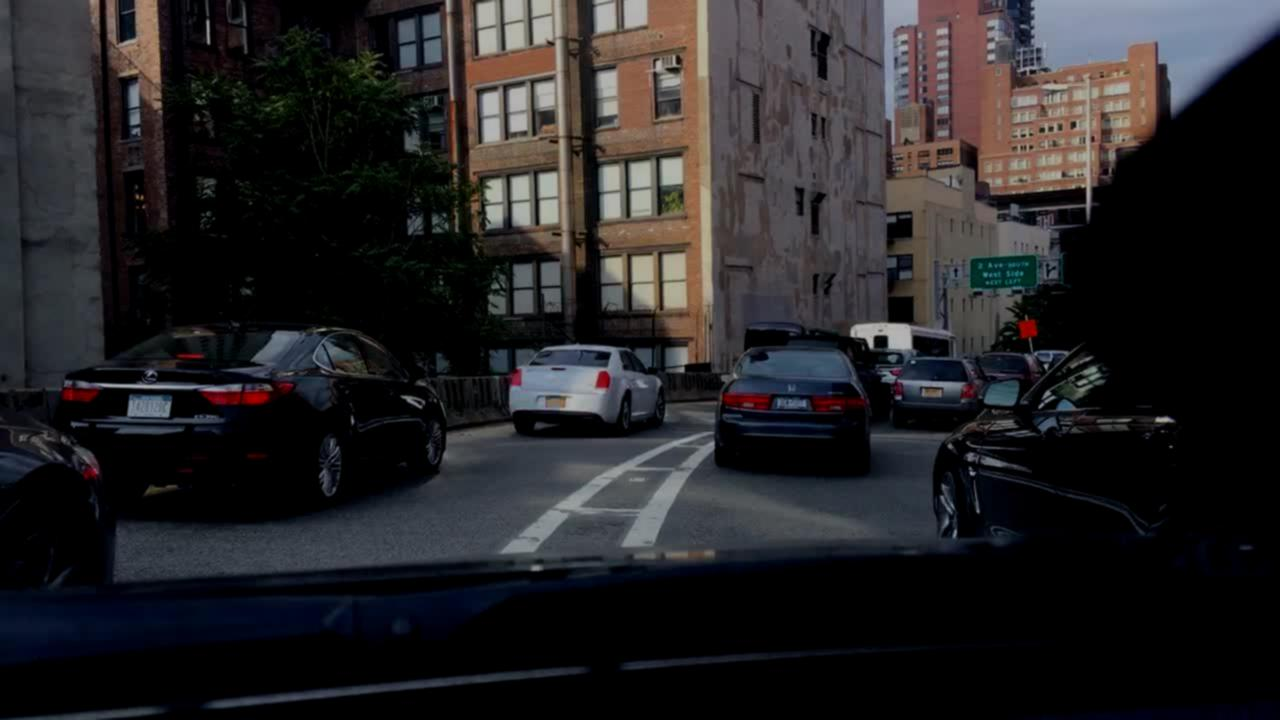Honda: (785, 381, 803, 394)
lexus: (138, 364, 160, 388)
